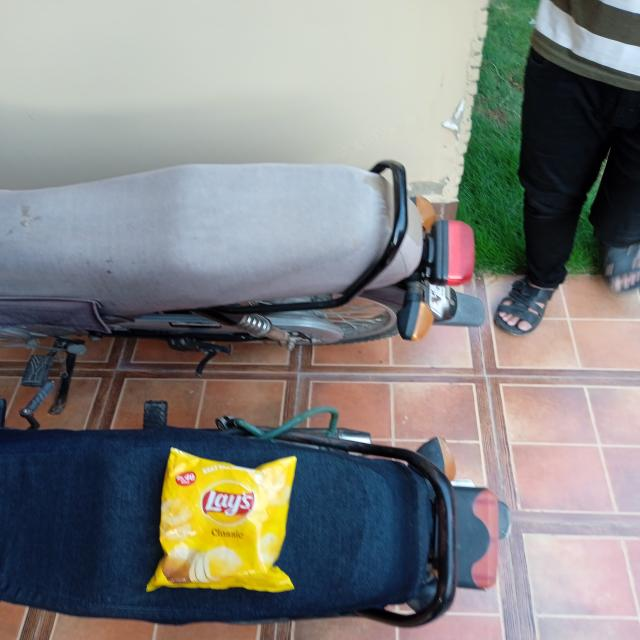Plastic: (162, 458, 298, 591)
